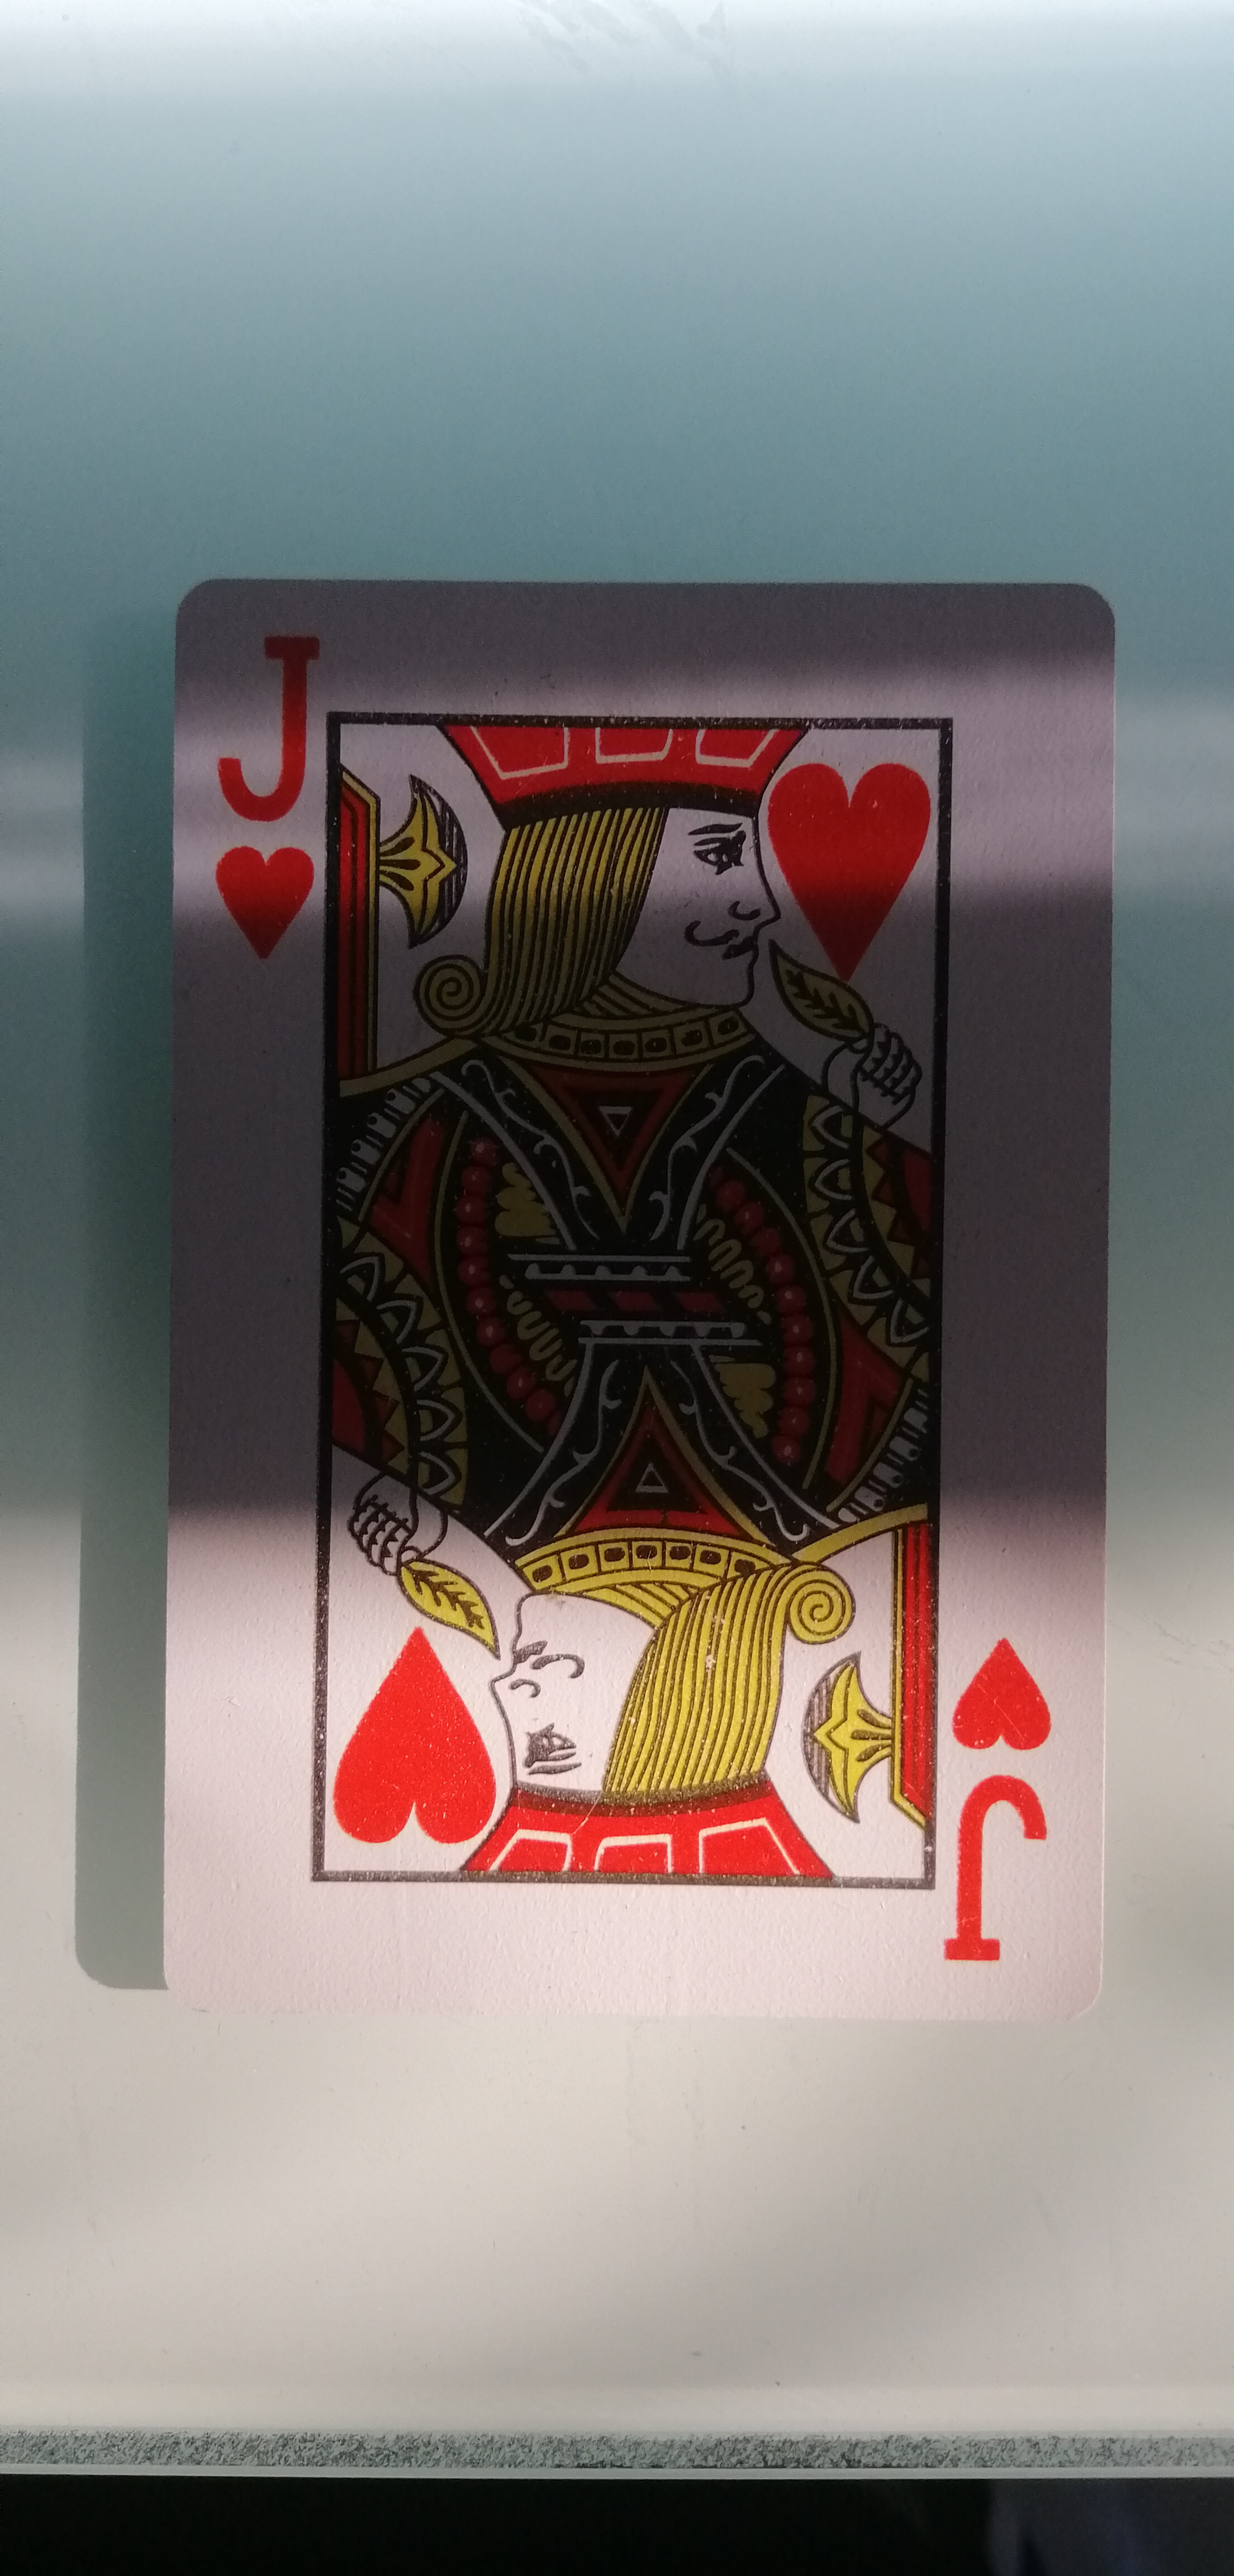jack: (138, 542, 1114, 2060)
